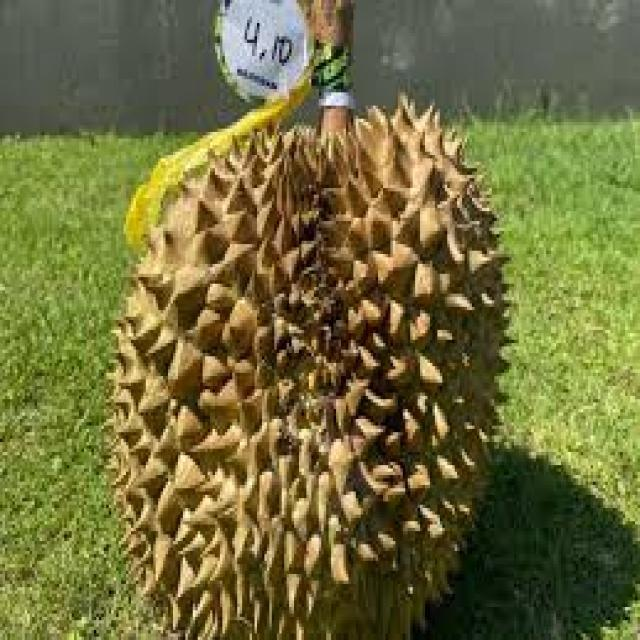mature: (114, 98, 502, 637)
